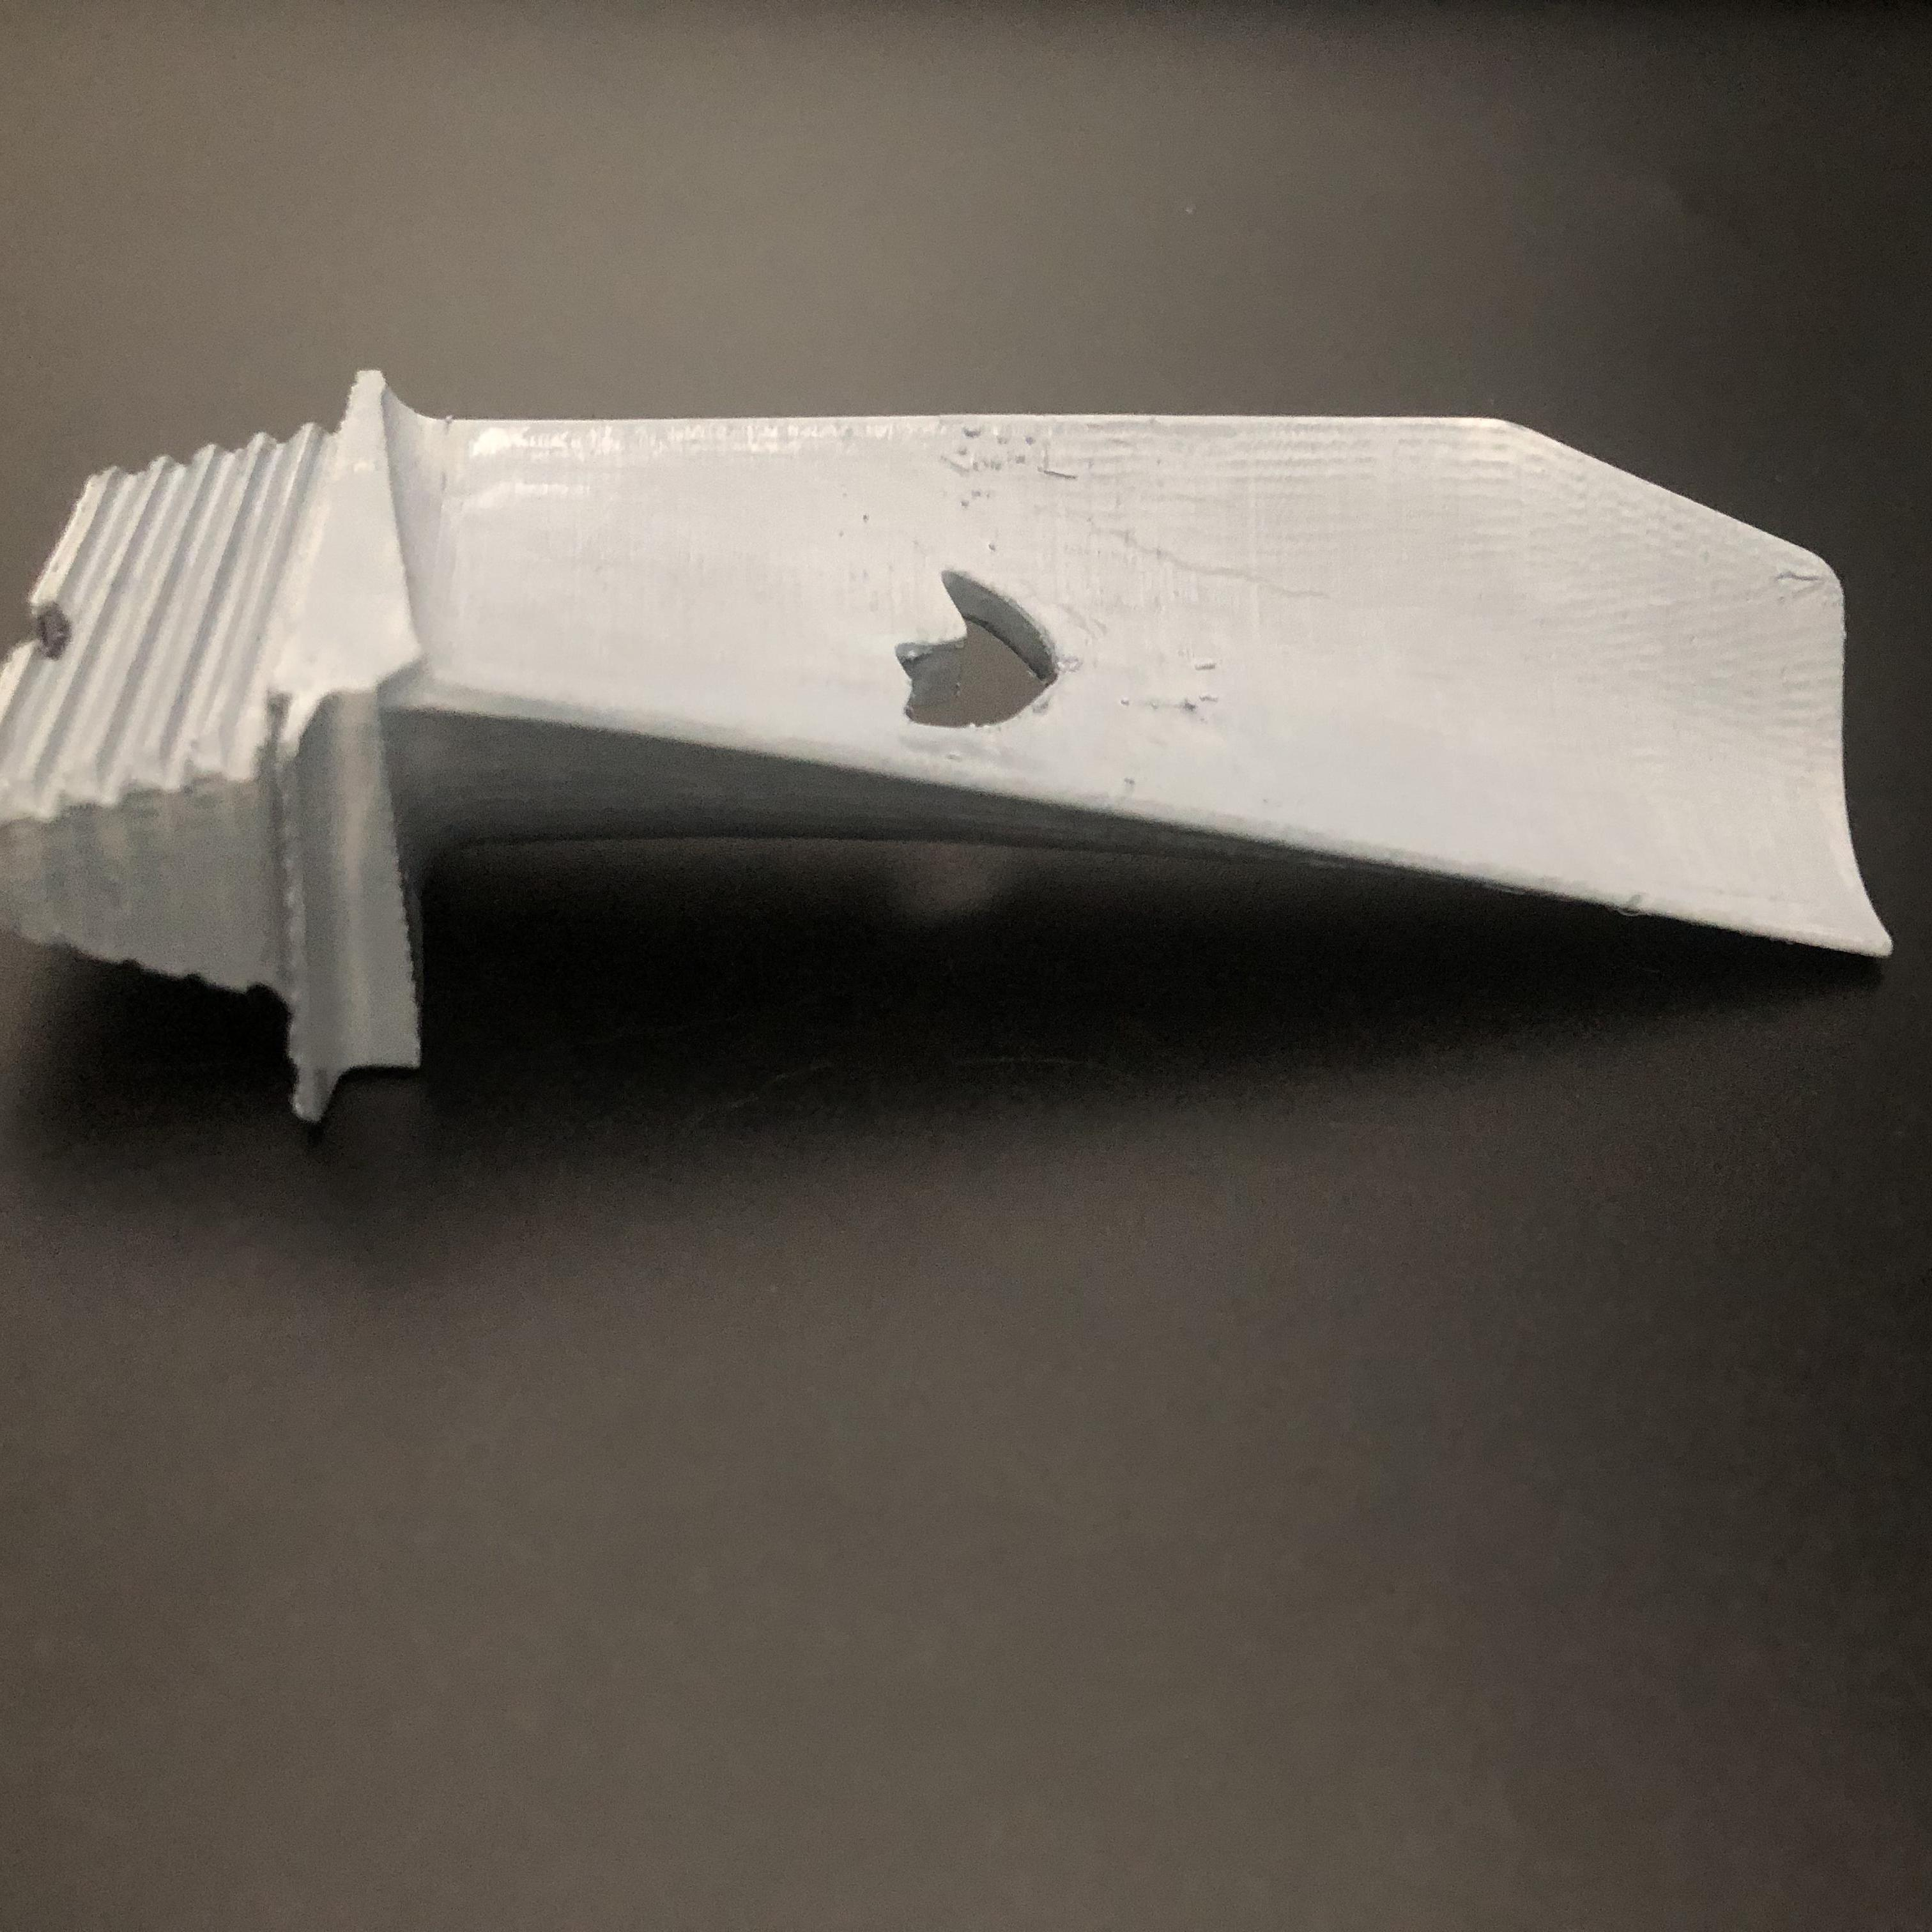breakdown: (893, 561, 1083, 747)
